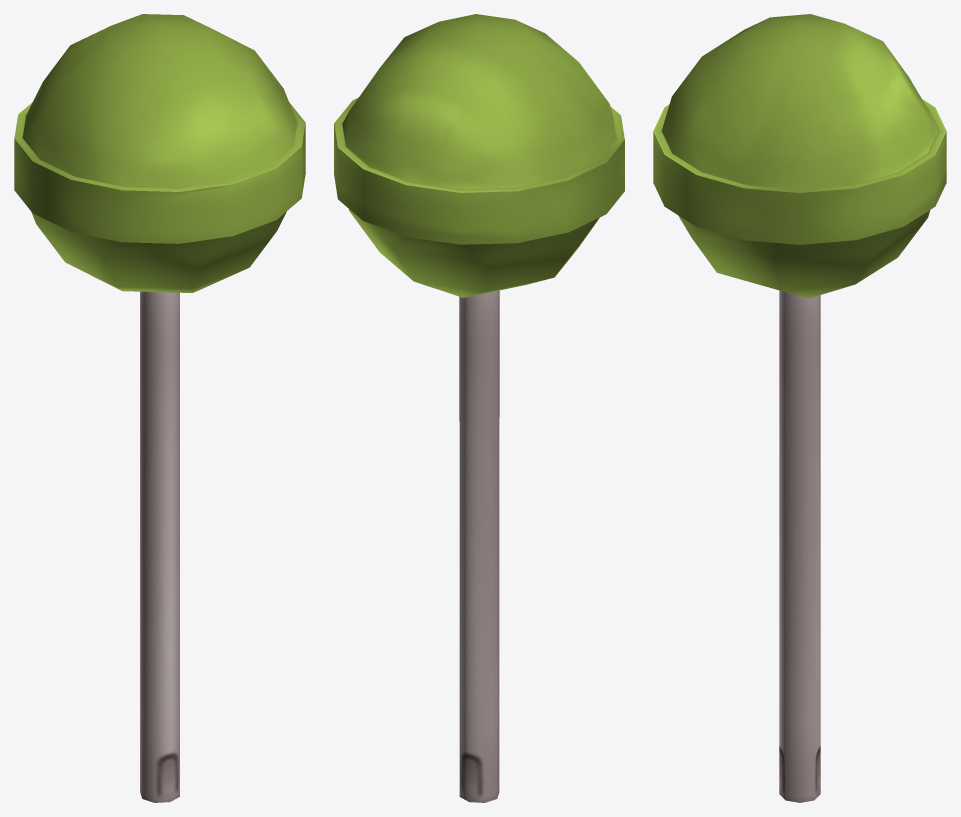
Rendered from lollipopsgreen.fbx.
3 renders of one model, left to right at view 1: azimuth 30°, elevation 25°; view 2: azimuth 150°, elevation 25°; view 3: azimuth 270°, elevation 25°, orthographic.
Parts seen in each view (by area): view 1: lollipopsgreen; view 2: lollipopsgreen; view 3: lollipopsgreen.
Boxes of the visible parts, x1,y1,x2,y2 form: lollipopsgreen: (14,14,305,802); lollipopsgreen: (334,14,624,802); lollipopsgreen: (653,14,946,802).
Size of the model in its own units: 7.52 by 21.74 by 7.52.
